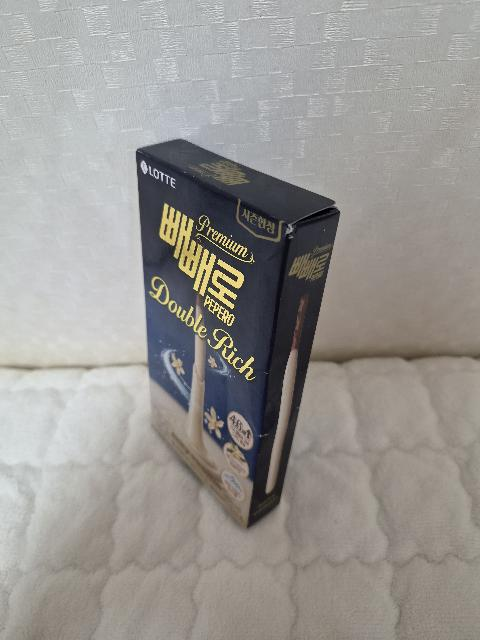pepero: (135, 138, 340, 529)
